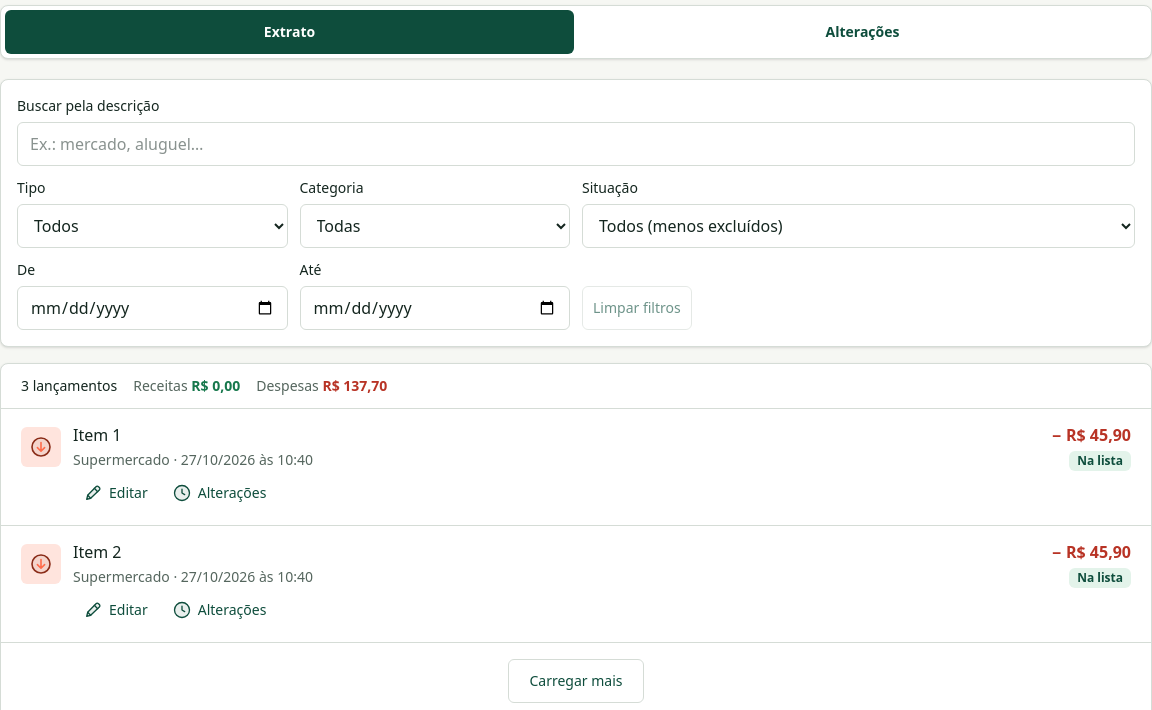
Test case: Histórico: extrato › Carregar mais usa o cursor e acrescenta; some quando acaba
The width and height of the screenshot is (1152, 710).
(page scrolled)
expect the text "Item 2" is shown: met, box [73,541,122,563]
What coordinates should you click on to do the following:
click the button "Carregar mais"
I would click on:
 (576, 681)
Its box is [508,659,644,703].
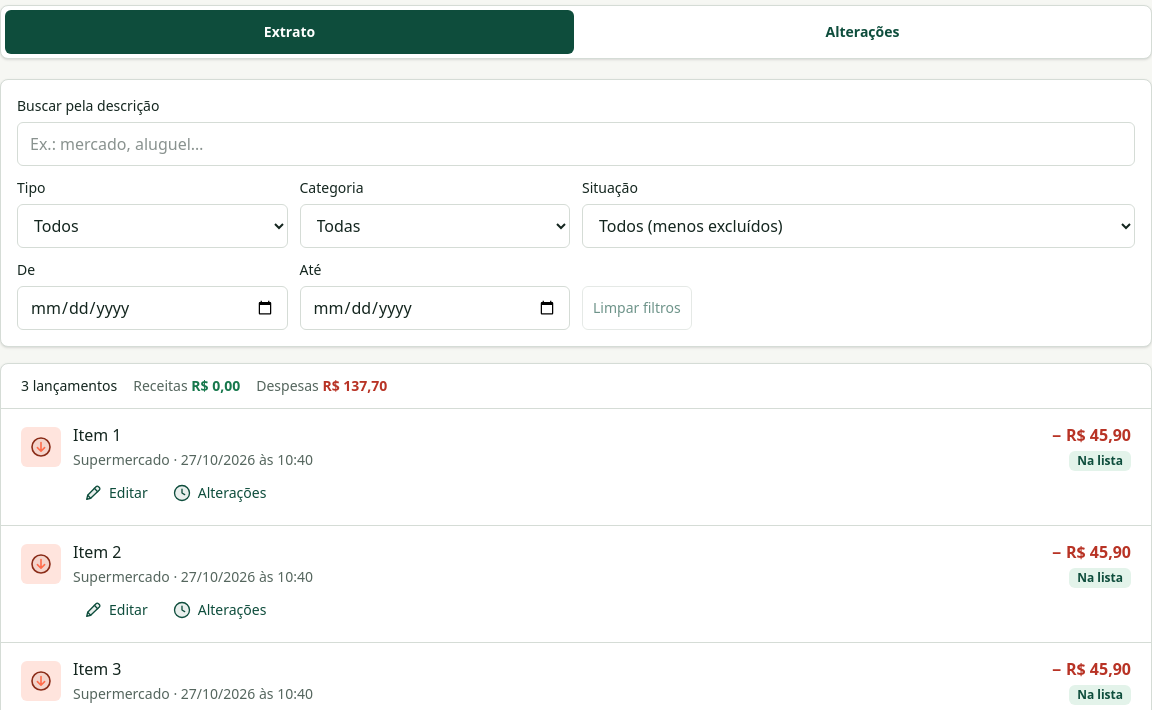
expect the text "Item 1" is shown: met, box [73,424,122,446]
expect the text "Item 3" is shown: met, box [73,658,122,680]
expect the button "Carregar mais" is gone: met
